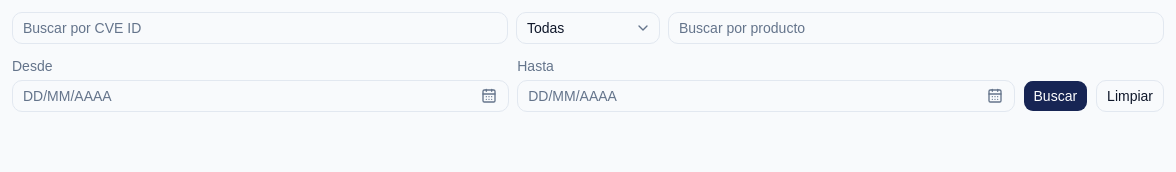
Test case: CveFilters › actualiza las fechas al seleccionar valores del calendario
Type "2026-10-01" into the date field named "Seleccionar fecha desde" at (261, 84), box x1=12 y1=56 x2=509 y2=112
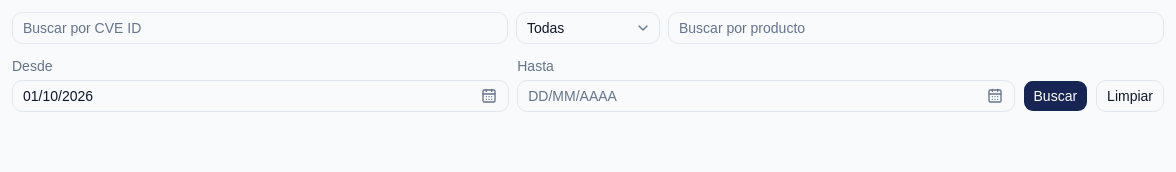
Type "2026-10-24" into the date field named "Seleccionar fecha hasta" at (766, 84), box x1=517 y1=56 x2=1015 y2=112
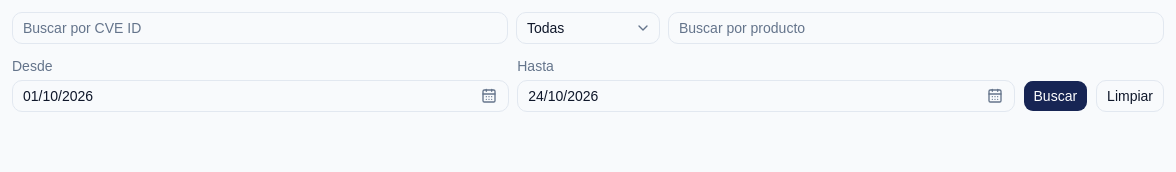
Expected: the field labelled "Desde" holds "01/10/2026", x1=12 y1=80 x2=509 y2=112
Expected: the field labelled "Hasta" holds "24/10/2026", x1=517 y1=80 x2=1015 y2=112
